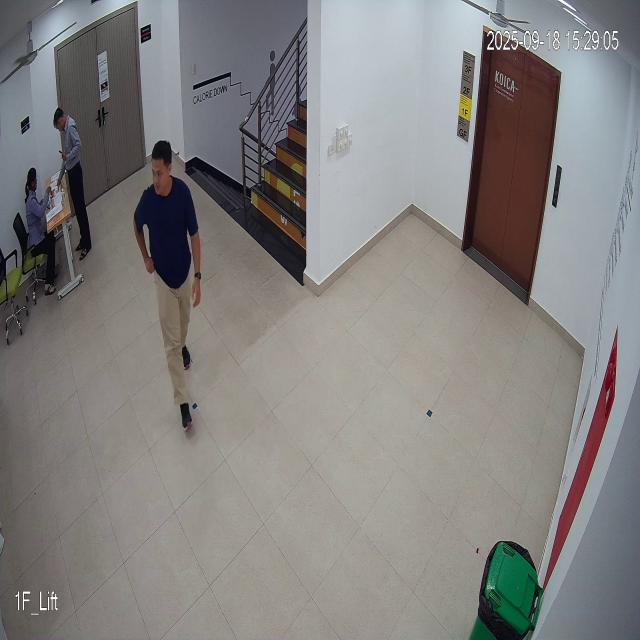face: (150, 133, 173, 199)
